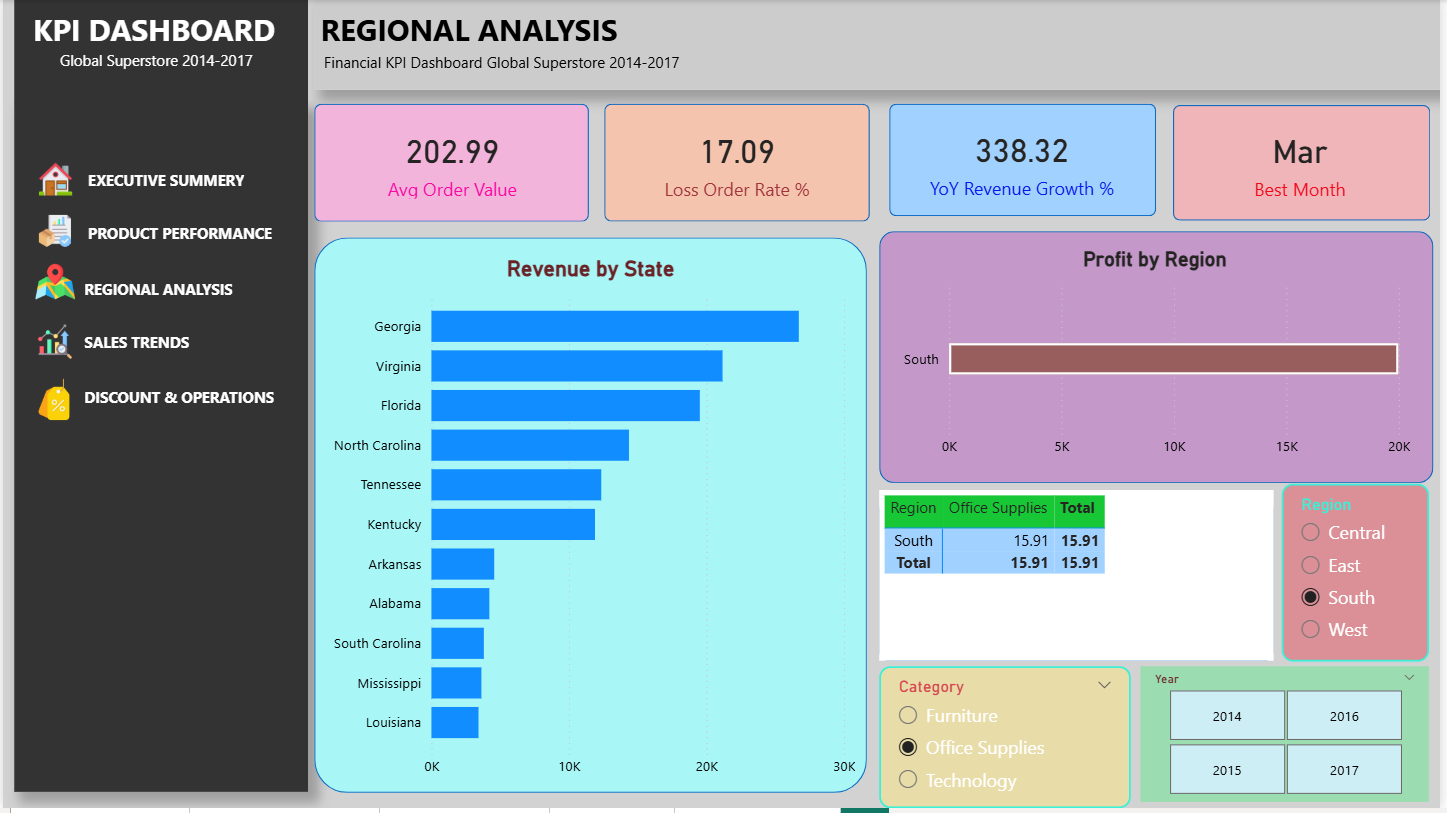

The dashboard page shown, as its layout file describes it:
{"tool":"powerbi","page":{"name":"Regional Analysis","canvas":[1280,720],"ordinal":2},"visuals":[{"type":"shape","box":[9.7,0,261.8,92.9],"z":0},{"type":"shape","box":[9.7,92.9,261.8,612.9],"z":1000},{"type":"shape","box":[277.5,0,1002.6,79.6],"z":2000},{"type":"shape","box":[277.6,92.9,244.6,105.2],"z":3000},{"type":"shape","box":[535.7,92.9,236.5,105],"z":4000},{"type":"shape","box":[789,92.9,237.7,100.1],"z":5000},{"type":"shape","box":[1041.5,93.3,229.2,102.9],"z":6000},{"type":"shape","box":[277.5,211.1,492.2,494.6],"z":7000},{"type":"shape","box":[780.6,206.3,493.4,224.4],"z":8000},{"type":"shape","box":[780.6,445.2,351.1,143.6],"z":9000},{"type":"clusteredBarChart","title":" Profit by Region","fields":{"Category":["superstore_clean.Region"],"Y":["superstore_clean.Total Profit"]},"box":[793.8,220.8,464.5,195.4],"z":10000},{"type":"clusteredBarChart","title":"Revenue by State","fields":{"Category":["superstore_clean.State"],"Y":["superstore_clean.Total Revenue"]},"box":[282.3,228,481.4,472.9],"z":11000},{"type":"pivotTable","fields":{"Rows":["superstore_clean.Region"],"Columns":["superstore_clean.Category"],"Values":["superstore_clean.Profit Margin %"]},"box":[780.6,436.7,351.1,152],"z":12000},{"type":"shape","box":[75.8,185.9,190.8,42.8],"z":13000},{"type":"shape","box":[72.1,234.8,190.8,44],"z":14000},{"type":"shape","box":[72.1,281.3,199.3,44],"z":15000},{"type":"shape","box":[72.1,330.2,190.8,44],"z":16000},{"type":"image","box":[25.7,144.3,42.8,29.3],"z":17000},{"type":"image","box":[28.1,190.8,36.7,30.6],"z":18000},{"type":"image","box":[29,231.6,35,38.6],"z":19000},{"type":"image","box":[25.7,288.6,41.6,31.8],"z":20000},{"type":"image","box":[23.2,337.5,44,36.7],"z":21000},{"type":"shape","box":[75.8,138.2,190.8,42.8],"z":22000},{"type":"shape","box":[26.5,3.6,229.2,43.4],"z":23000},{"type":"shape","box":[41.6,41.6,190.8,24.5],"z":24000},{"type":"shape","box":[277.5,38.6,334.2,31.4],"z":25000},{"type":"shape","box":[282.3,4.8,334.2,42.2],"z":26000},{"type":"slicer","fields":{"Values":["superstore_clean.Region"]},"box":[1138.9,430.7,131.5,158],"z":27000},{"type":"slicer","fields":{"Values":["superstore_clean.Category"]},"box":[780.6,593.6,224.4,126.7],"z":28000},{"type":"slicer","fields":{"Values":["superstore_clean.Year"]},"box":[1013.4,593.6,257,120.6],"z":29000},{"type":"card","fields":{"Values":["superstore_clean.Avg Order Value"]},"box":[296.8,106.2,206.3,76],"z":30000},{"type":"card","fields":{"Values":["DateTable.Loss Order Rate %"]},"box":[555,101.3,196.6,85.7],"z":31000},{"type":"card","fields":{"Values":["DateTable.YoY Revenue Growth %"]},"box":[809.5,95.3,196.6,95.3],"z":32000},{"type":"card","fields":{"Values":["DateTable.Best Month"]},"box":[1072.5,103.8,166.5,80.8],"z":33000}]}

Visuals, with their boxes on the page's 1280x720 design canvas (x1, y1, x2, y2). These are canvas units, not pixel positions in the 1447x813 screenshot, which may show the page scaled, cropped or inside an application window:
shape: crop(10, 0, 272, 93)
shape: crop(10, 93, 272, 706)
shape: crop(278, 0, 1280, 80)
shape: crop(278, 93, 522, 198)
shape: crop(536, 93, 772, 198)
shape: crop(789, 93, 1027, 193)
shape: crop(1042, 93, 1271, 196)
shape: crop(278, 211, 770, 706)
shape: crop(781, 206, 1274, 431)
shape: crop(781, 445, 1132, 589)
" Profit by Region" clusteredBarChart: crop(794, 221, 1258, 416)
"Revenue by State" clusteredBarChart: crop(282, 228, 764, 701)
pivotTable - superstore_clean.Region x superstore_clean.Category: crop(781, 437, 1132, 589)
shape: crop(76, 186, 267, 229)
shape: crop(72, 235, 263, 279)
shape: crop(72, 281, 271, 325)
shape: crop(72, 330, 263, 374)
image: crop(26, 144, 68, 174)
image: crop(28, 191, 65, 221)
image: crop(29, 232, 64, 270)
image: crop(26, 289, 67, 320)
image: crop(23, 338, 67, 374)
shape: crop(76, 138, 267, 181)
shape: crop(26, 4, 256, 47)
shape: crop(42, 42, 232, 66)
shape: crop(278, 39, 612, 70)
shape: crop(282, 5, 616, 47)
slicer - superstore_clean.Region: crop(1139, 431, 1270, 589)
slicer - superstore_clean.Category: crop(781, 594, 1005, 720)
slicer - superstore_clean.Year: crop(1013, 594, 1270, 714)
card - superstore_clean.Avg Order Value: crop(297, 106, 503, 182)
card - DateTable.Loss Order Rate %: crop(555, 101, 752, 187)
card - DateTable.YoY Revenue Growth %: crop(810, 95, 1006, 191)
card - DateTable.Best Month: crop(1072, 104, 1239, 185)
